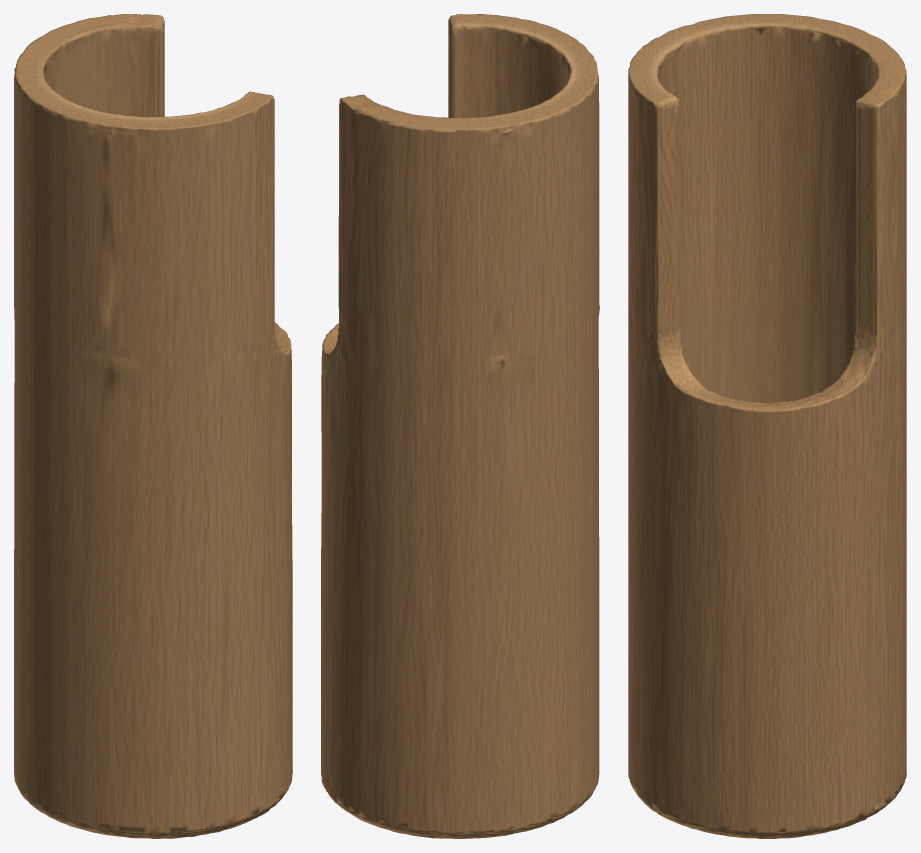
The model's file is pen_holder.glb.
The picture shows the model from 3 angles, left to right: view 1: azimuth 30°, elevation 25°; view 2: azimuth 150°, elevation 25°; view 3: azimuth 270°, elevation 25°; orthographic projection.
Visible parts, largest first — view 1: tripo_node_1ed86a33-7feb-4543-9cb8-db62f17d626c; view 2: tripo_node_1ed86a33-7feb-4543-9cb8-db62f17d626c; view 3: tripo_node_1ed86a33-7feb-4543-9cb8-db62f17d626c.
Boxes of the visible parts, x1,y1,x2,y2 form: tripo_node_1ed86a33-7feb-4543-9cb8-db62f17d626c: [14, 14, 292, 838]; tripo_node_1ed86a33-7feb-4543-9cb8-db62f17d626c: [321, 14, 599, 838]; tripo_node_1ed86a33-7feb-4543-9cb8-db62f17d626c: [628, 14, 906, 838].
Bounding box in the file's own units: 0.3535 × 0.998 × 0.3535.
Materials: 1 (1 with a texture image).
